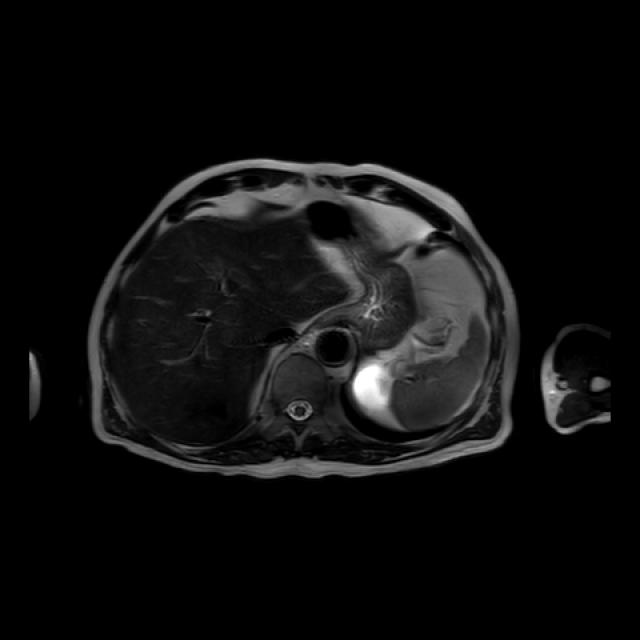sol: (354, 364, 395, 412)
